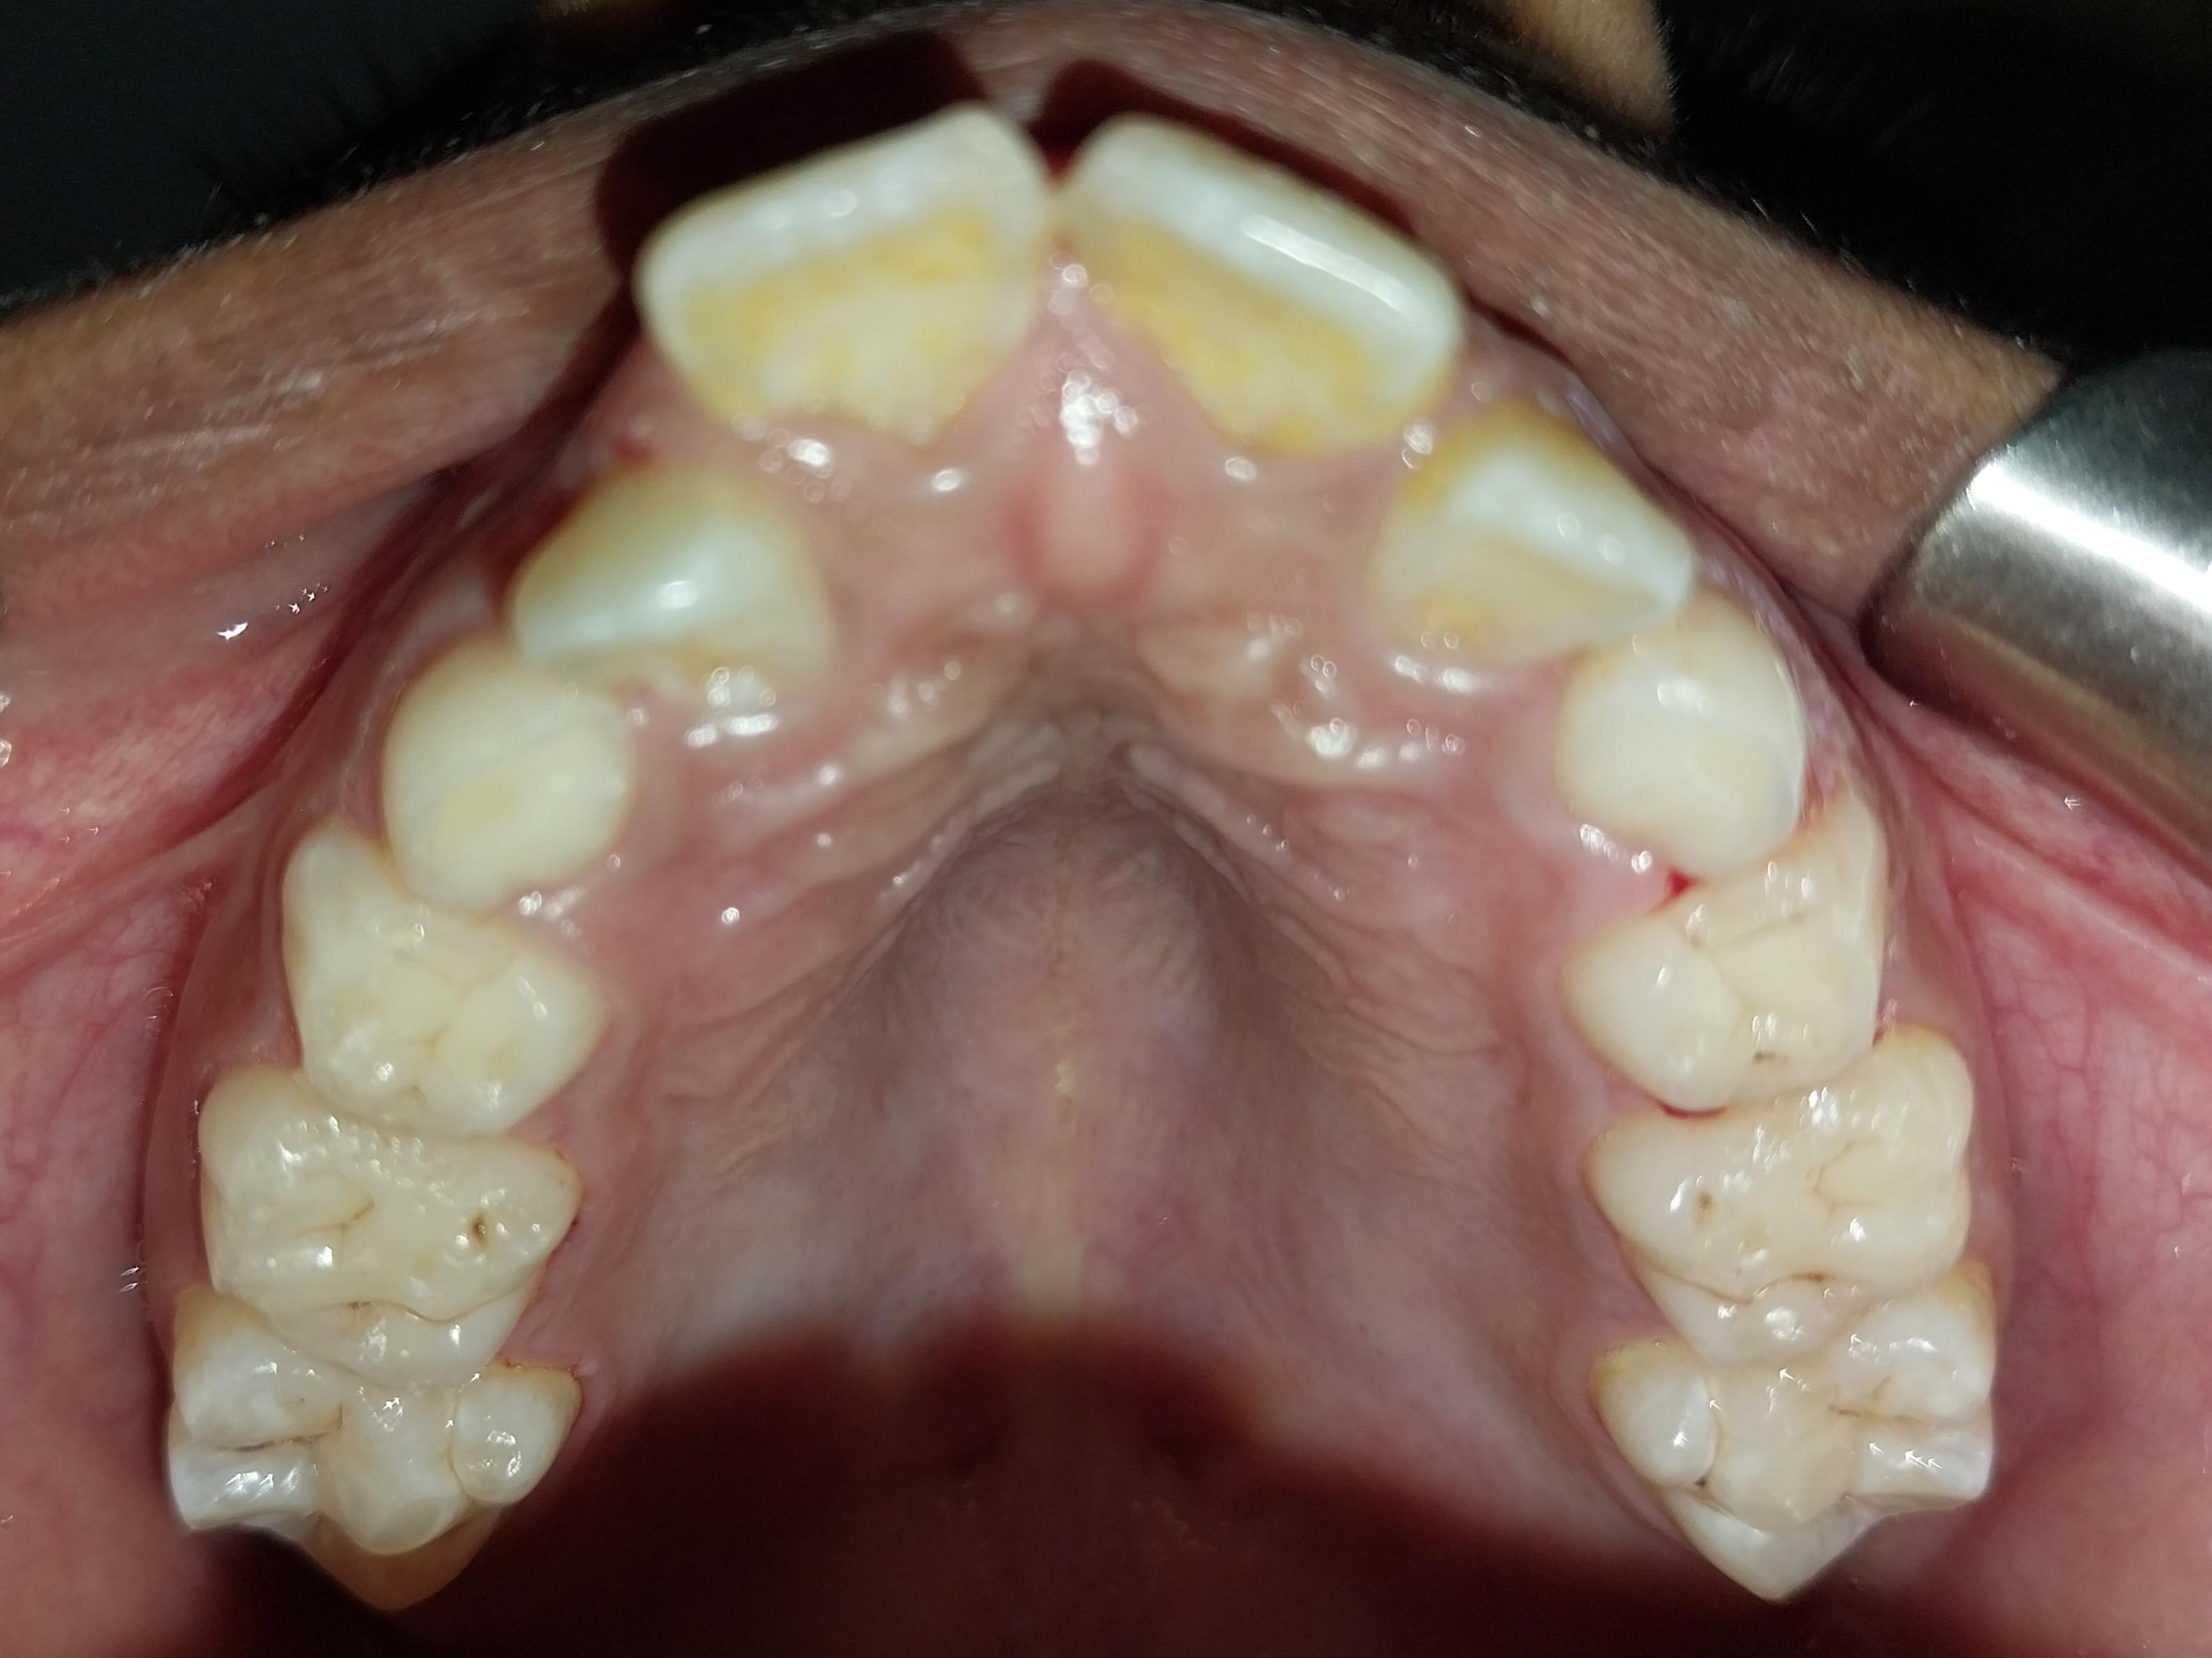d: (201, 1068, 567, 1388)
